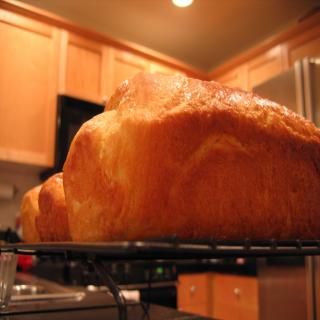Bread: (61, 71, 320, 240), (34, 171, 70, 240), (21, 184, 42, 240)
